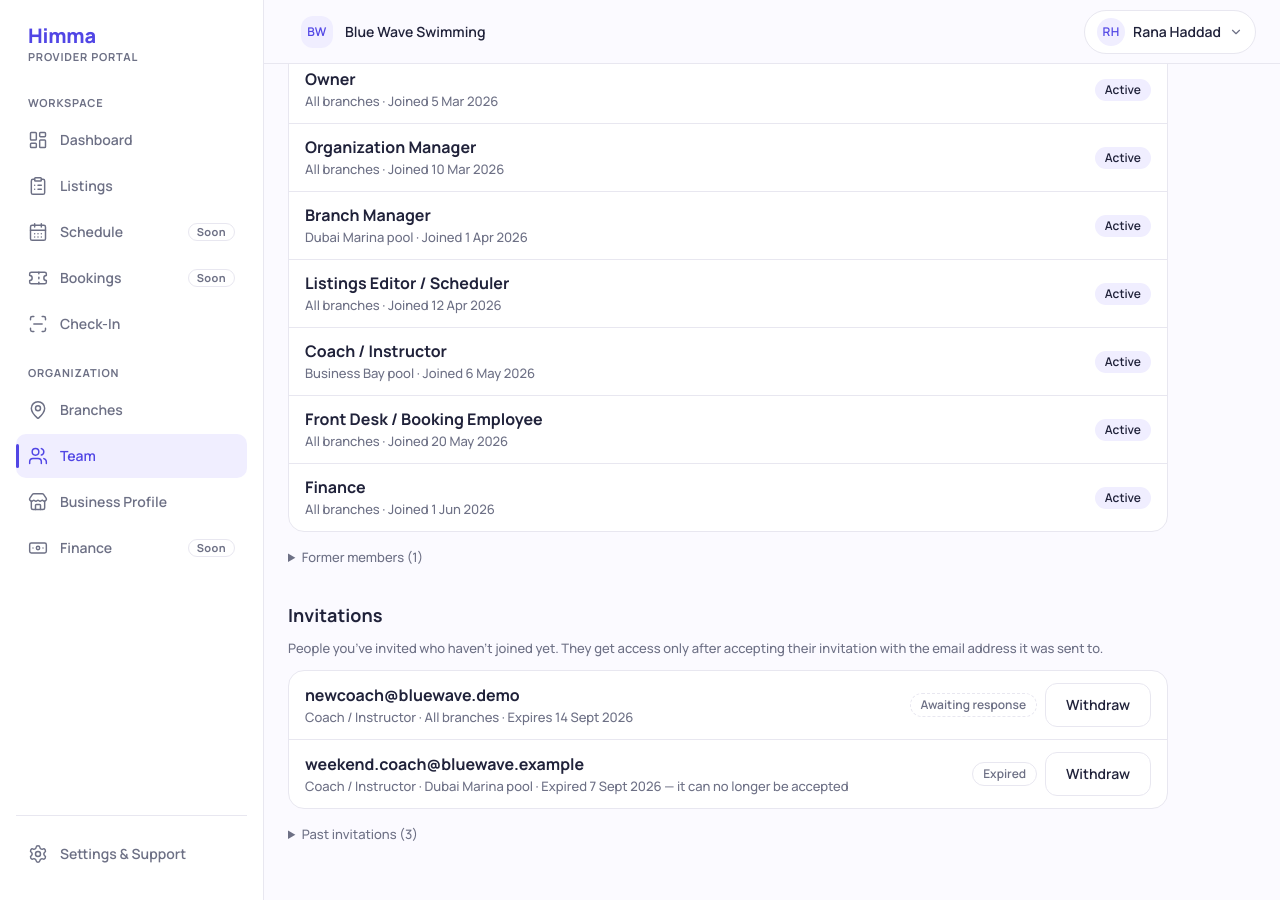
Test: team index (W2-6) › withdrawing a pending invitation: consequence dialog → fixture refresh → success status
(page scrolled)
Click the button "Withdraw" next to "Awaiting response": click(1098, 705) x1=1045 y1=683 x2=1151 y2=727
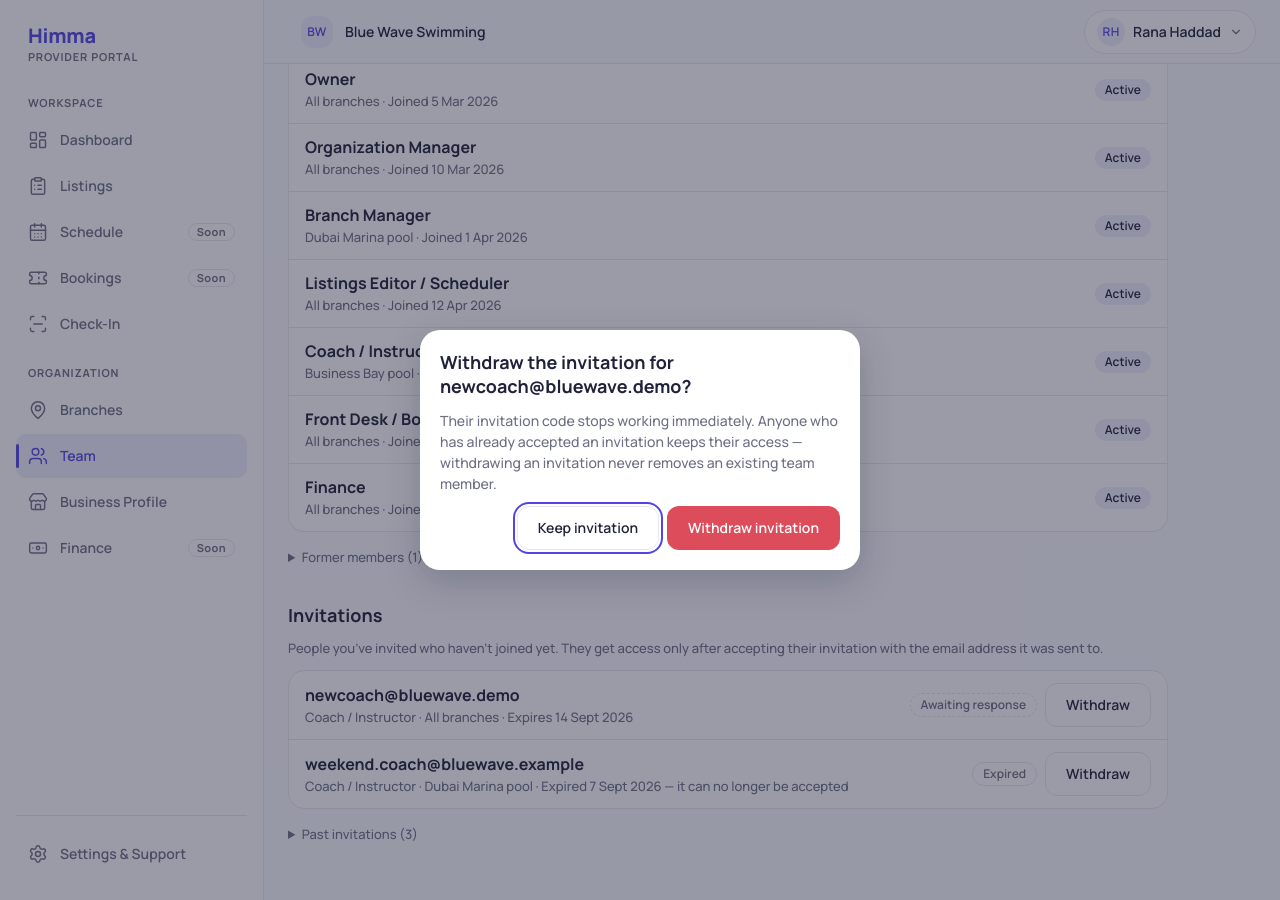
expect the text "never removes an existing team member" is shown: met, box x1=440 y1=411 x2=838 y2=493
Click the button "Withdraw invitation": click(754, 528) x1=667 y1=506 x2=840 y2=550
(page scrolled)
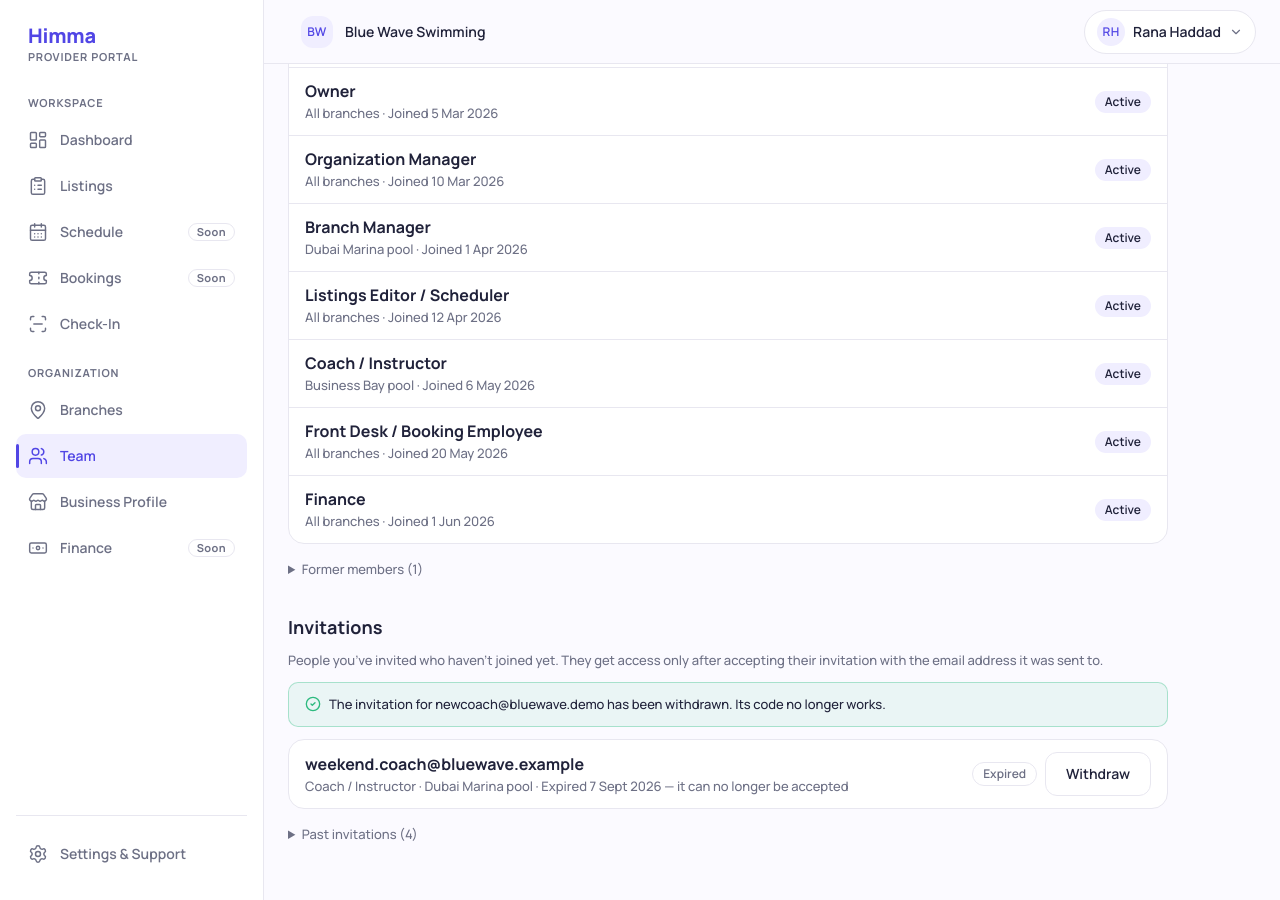
expect the text "The invitation for newcoach@bluewave.demo has been withdrawn" is shown: met, box x1=329 y1=695 x2=886 y2=714
expect the heading "Past invitations (4)" is shown: met, box x1=288 y1=821 x2=418 y2=848
